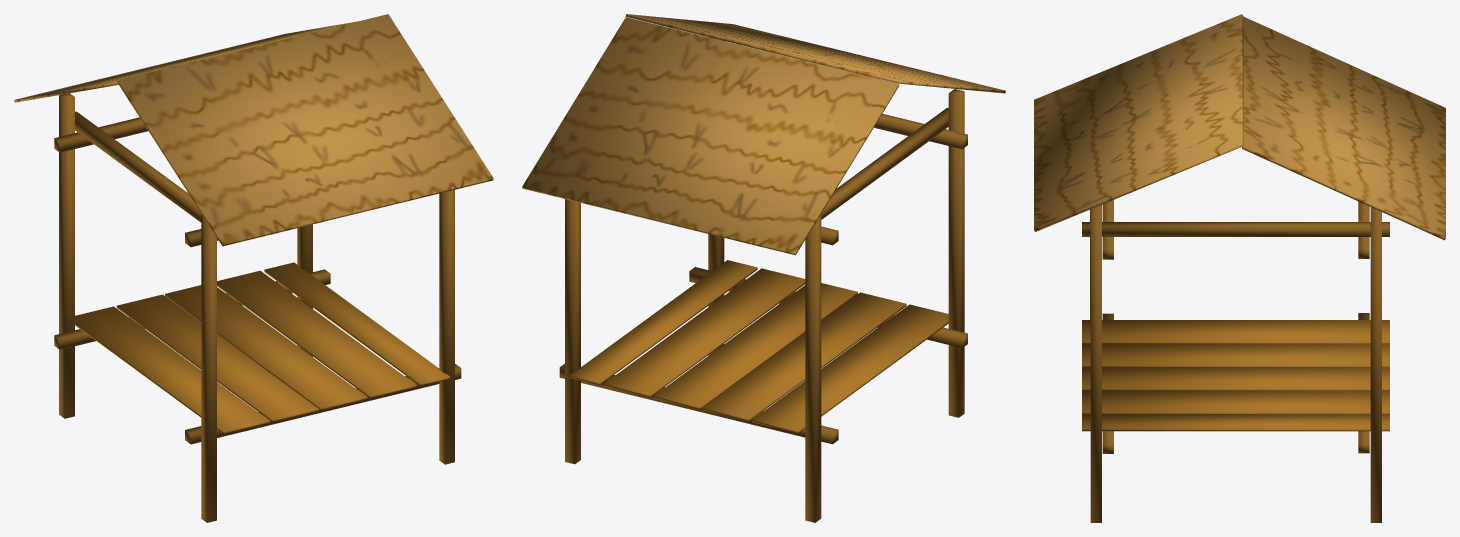
Rendered from SM_KhmerCottage.fbx.
3 renders of one model, left to right at view 1: azimuth 30°, elevation 25°; view 2: azimuth 150°, elevation 25°; view 3: azimuth 270°, elevation 25°, orthographic. The views are drawn at different scales.
Visible parts, largest first — view 1: Cube; view 2: Cube; view 3: Cube.
Part boxes in pixels (left/top/right/bottom): Cube: left=14, top=14, right=493, bottom=522; Cube: left=522, top=14, right=1005, bottom=522; Cube: left=1034, top=14, right=1445, bottom=522.
Bounding box in the file's own units: 1105 × 1506 × 1465.
